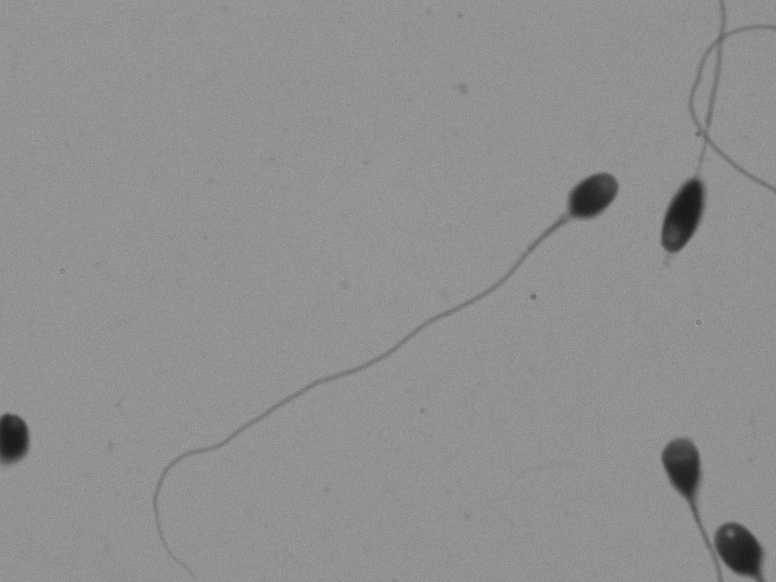Abnormal: (636, 80, 730, 318)
Normal: (121, 118, 643, 527)
